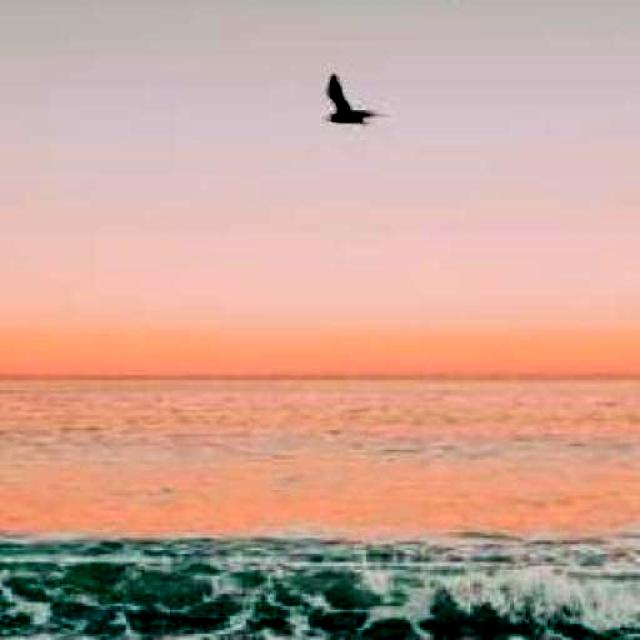airplane: (324, 74, 390, 130)
